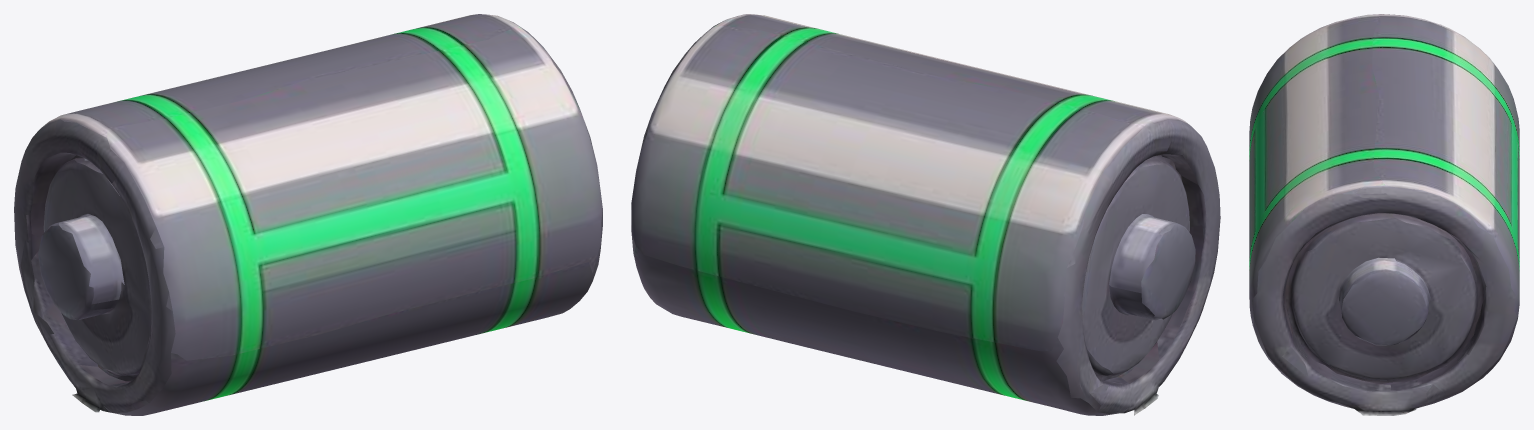
Rendered from battery_full.glb.
3 views of the same model, side by side, from view 1: azimuth 30°, elevation 25°; view 2: azimuth 150°, elevation 25°; view 3: azimuth 270°, elevation 25° (orthographic). The views are drawn at different scales.
Visible parts, largest first — view 1: item_battery_full; view 2: item_battery_full; view 3: item_battery_full.
Part boxes in pixels (left/top/right/bottom): item_battery_full: left=14, top=14, right=602, bottom=415; item_battery_full: left=631, top=14, right=1220, bottom=415; item_battery_full: left=1249, top=14, right=1519, bottom=415.
Size of the model in its own units: 1 by 0.5339 by 0.5744.
Materials: 1 (1 with a texture image).
